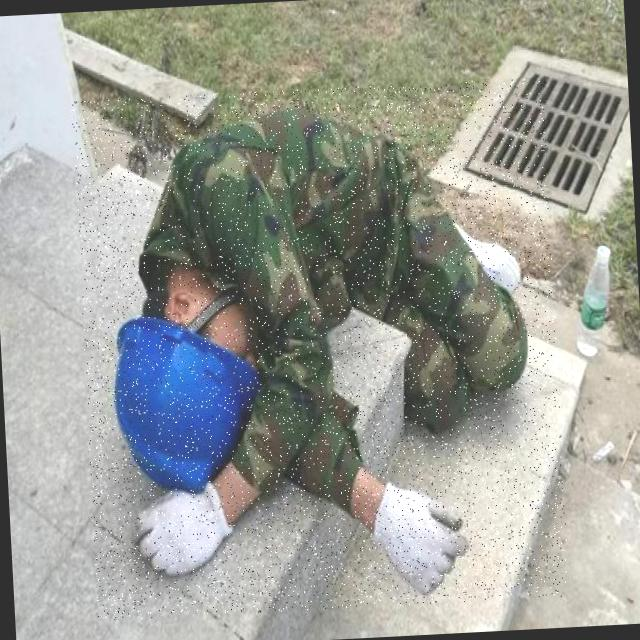boots: (446, 204, 530, 303)
helmet: (95, 310, 268, 500)
